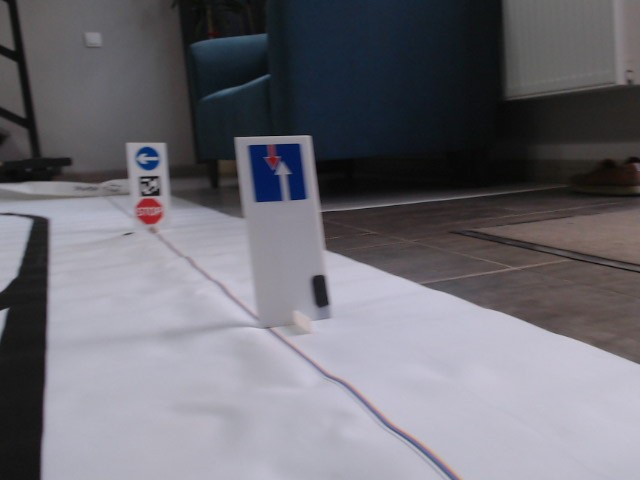Stop: (135, 198, 163, 223)
priority_movement: (247, 144, 308, 202)
